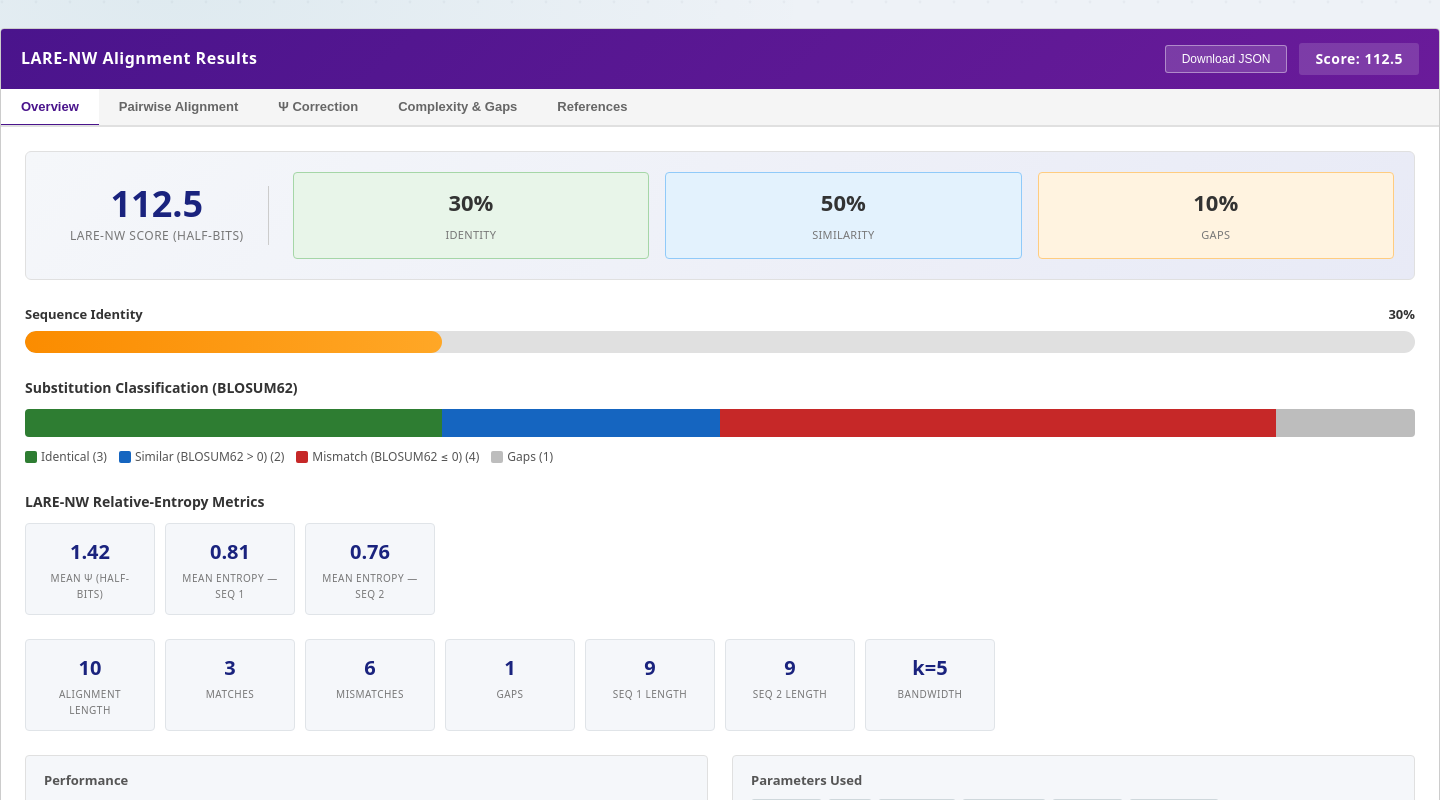
Test: AlignmentResults › switches to the Pairwise Alignment tab and renders alignment visualization
Click the button "Pairwise Alignment" at [178, 108], box [99, 89, 258, 127]
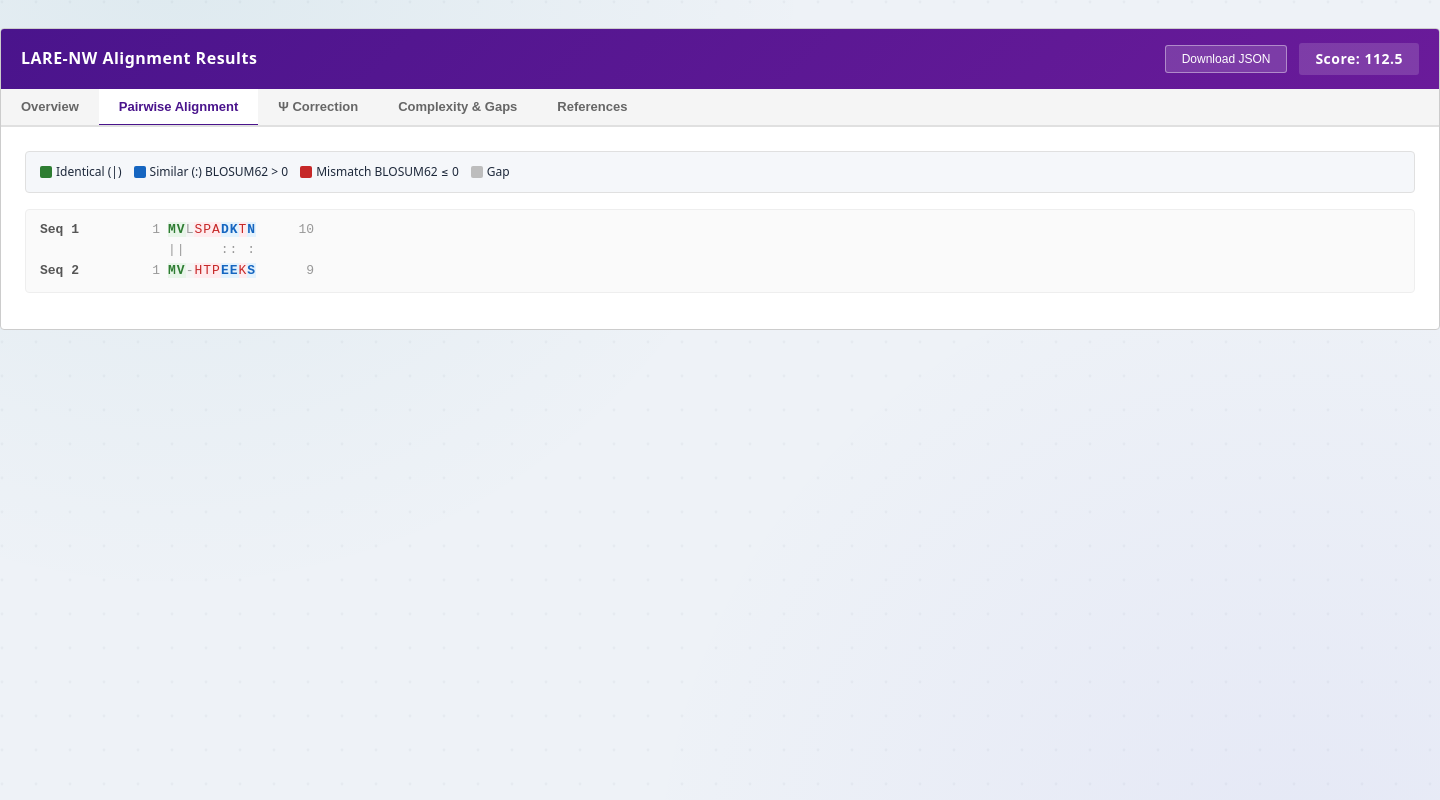
expect the text "Identical (|)" is shown: met, box [40, 162, 122, 182]
